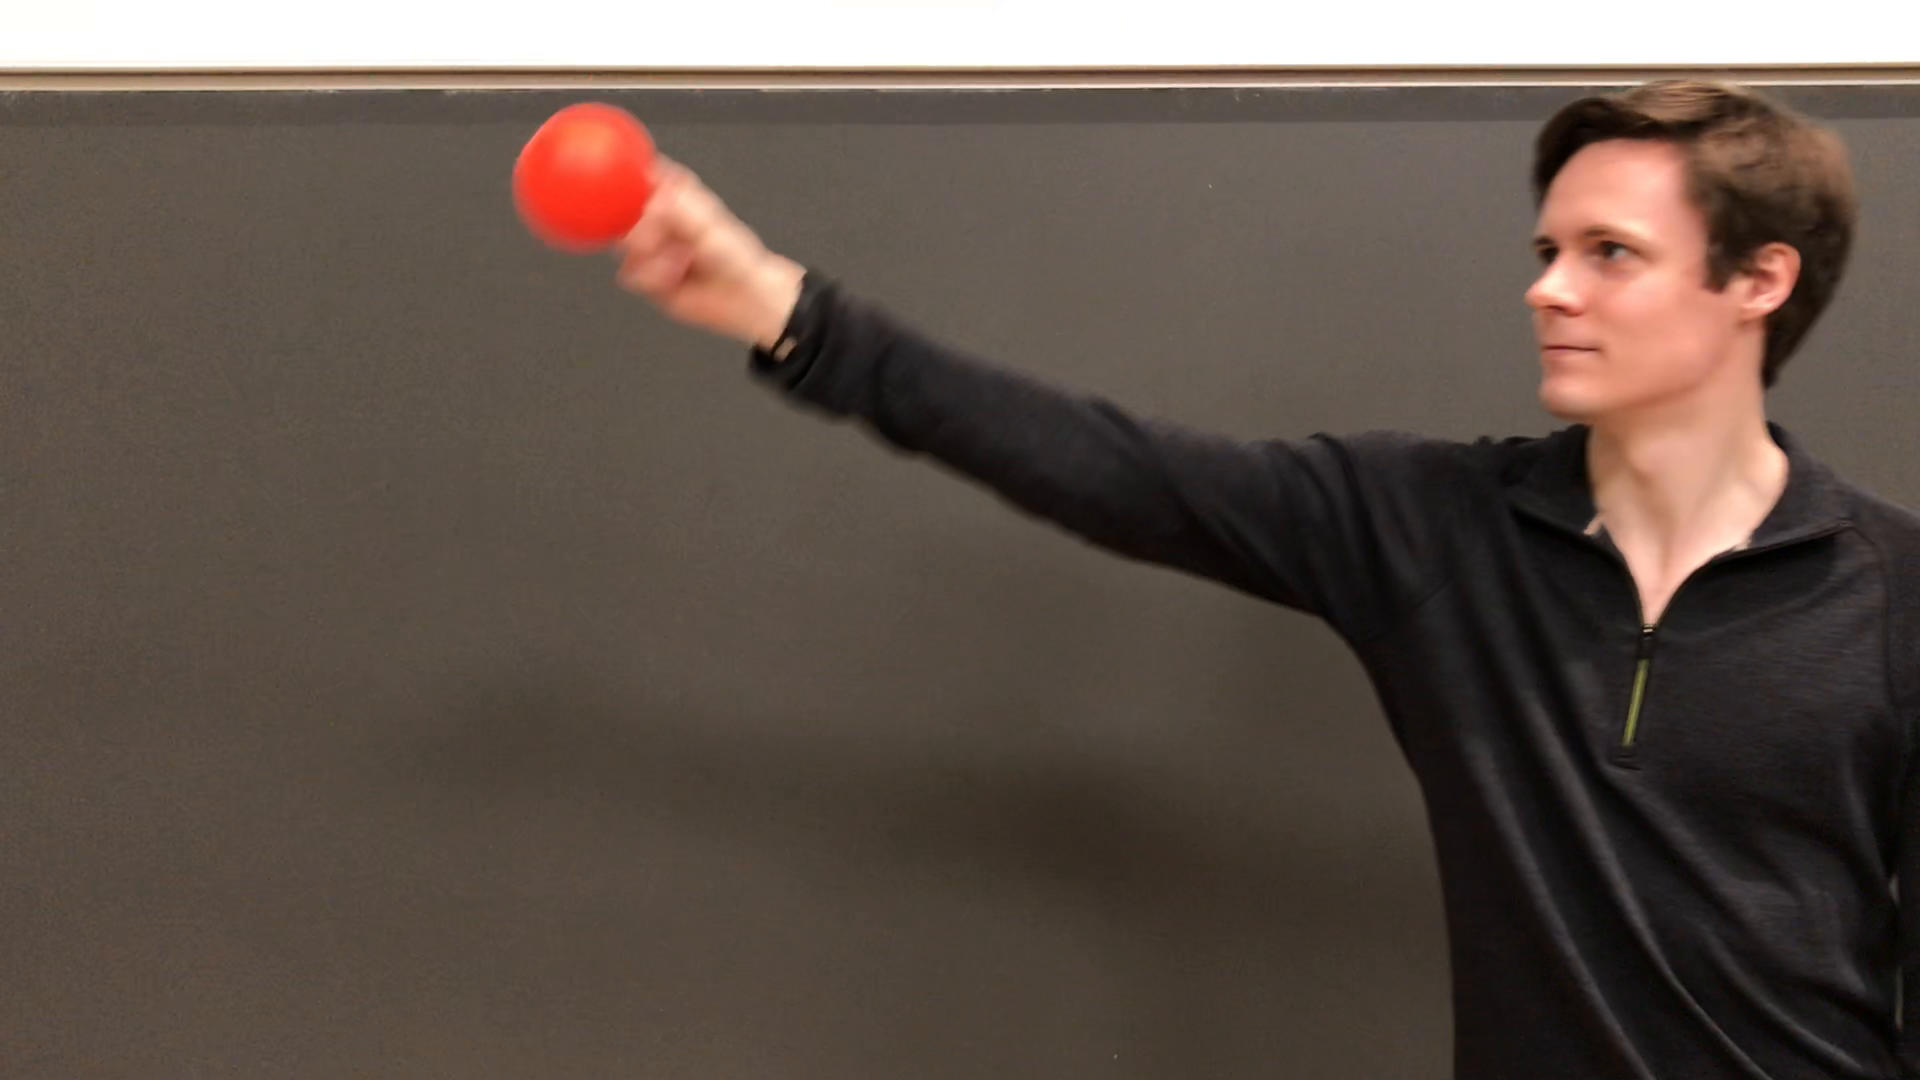Ball: (512, 103, 657, 251)
